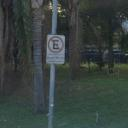NoEstacionar: (44, 34, 66, 54)
